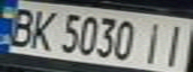0: (115, 16, 142, 62), (75, 12, 100, 56)
3: (93, 13, 118, 60)
5: (54, 10, 81, 55)
B: (3, 5, 39, 48)
I: (157, 20, 193, 69), (136, 18, 169, 65)
K: (24, 7, 60, 52)
